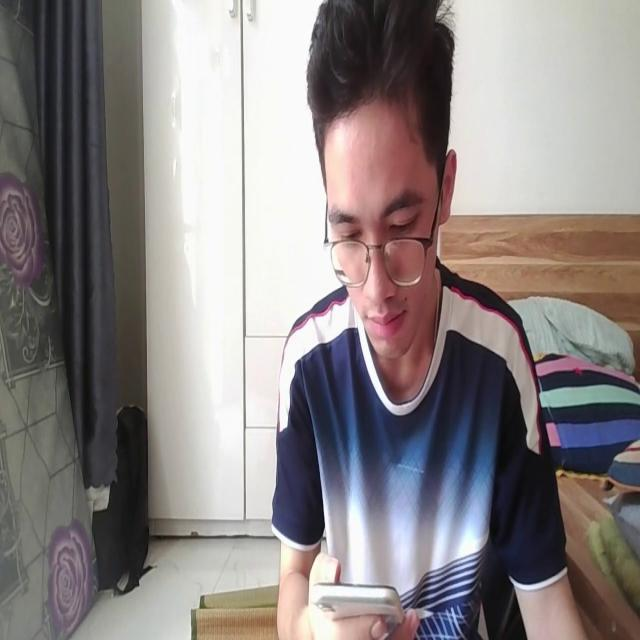phone: (311, 564, 403, 634)
student: (261, 0, 595, 640)
